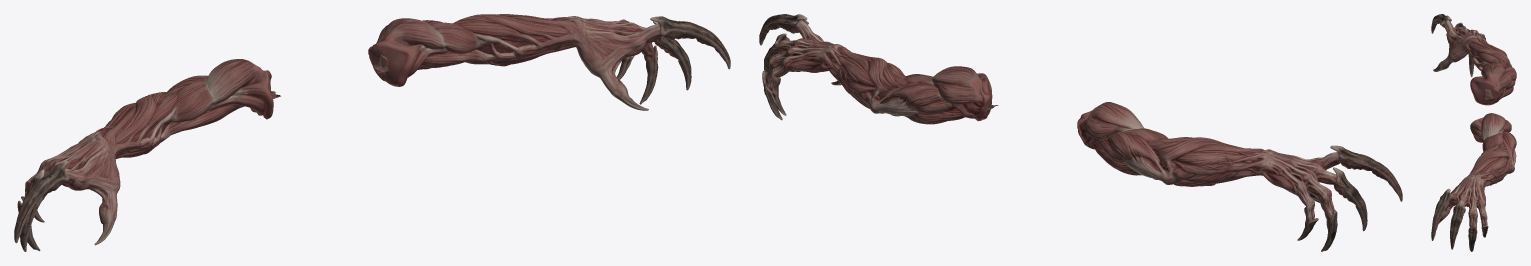
Rendered from aethelred_braco_mutante_antigo.glb.
3 renders of one model, left to right at view 1: azimuth 30°, elevation 25°; view 2: azimuth 150°, elevation 25°; view 3: azimuth 270°, elevation 25°, orthographic. The views are drawn at different scales.
Visible parts, largest first — view 1: bracos; view 2: bracos; view 3: bracos.
Boxes of the visible parts, left/top/right/bottom form: bracos: left=14, top=14, right=730, bottom=251; bracos: left=759, top=14, right=1402, bottom=251; bracos: left=1431, top=14, right=1516, bottom=251.
Bounding box in the file's own units: 0.0219 × 0.00362 × 0.0038.
1 material, 1 textured.
